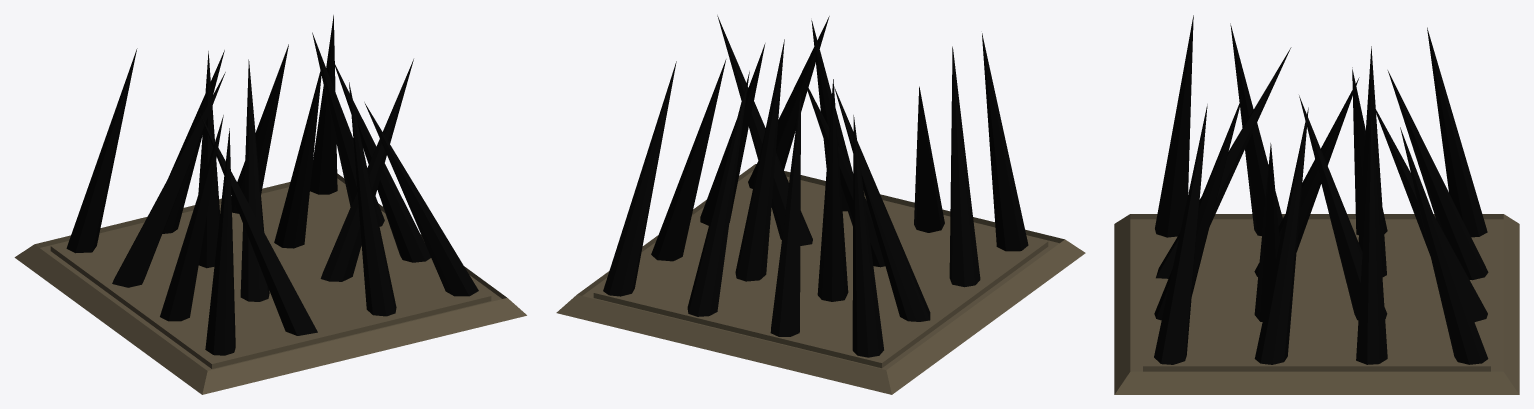
The model's file is Espinho low-poly.glb.
The picture shows the model from 3 angles, left to right: view 1: azimuth 30°, elevation 25°; view 2: azimuth 150°, elevation 25°; view 3: azimuth 270°, elevation 25°; orthographic projection. The views are drawn at different scales.
Parts seen in each view (by area): view 1: Plane; view 2: Plane; view 3: Plane.
Boxes of the visible parts, <box> form: Plane: <box>14,15,526,394</box>; Plane: <box>556,15,1085,394</box>; Plane: <box>1114,15,1519,394</box>.
Size of the model in its own units: 2.42 by 1.62 by 2.42.
